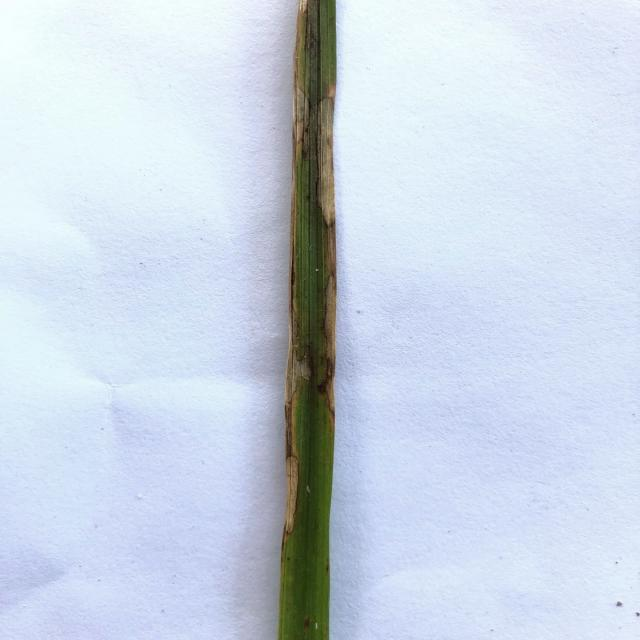leaf blight: (284, 176, 315, 537), (318, 82, 337, 429), (291, 2, 311, 167)
